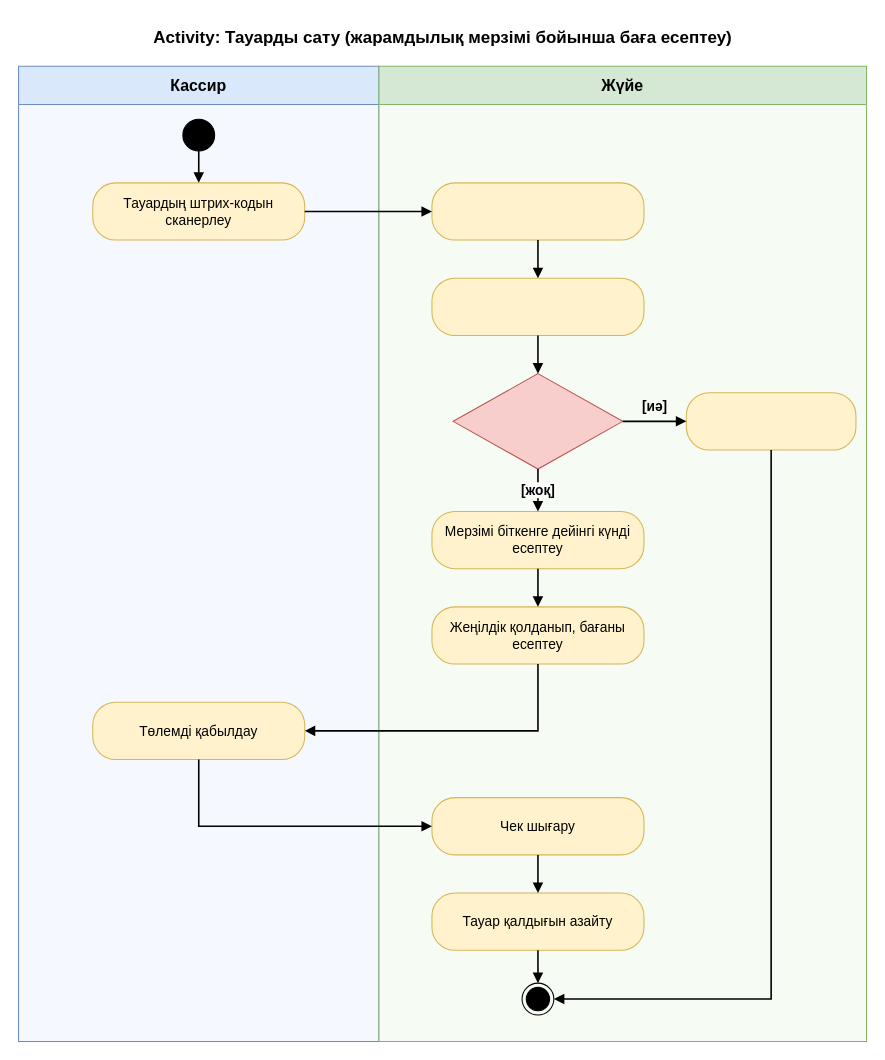
Some shapes in this 885 by 1060 pixel diagram are drawn without their labels. Each missing label, with the centre of its shape:
"Жарамдылық мерзімін тексеру" goes at [537,306].
"Мерзімі өтті ме?" goes at [537,421].
"Сатуды бұғаттап, ескерту шығару" goes at [770,421].
"Тауар партиясын іздеу" goes at [537,211].
